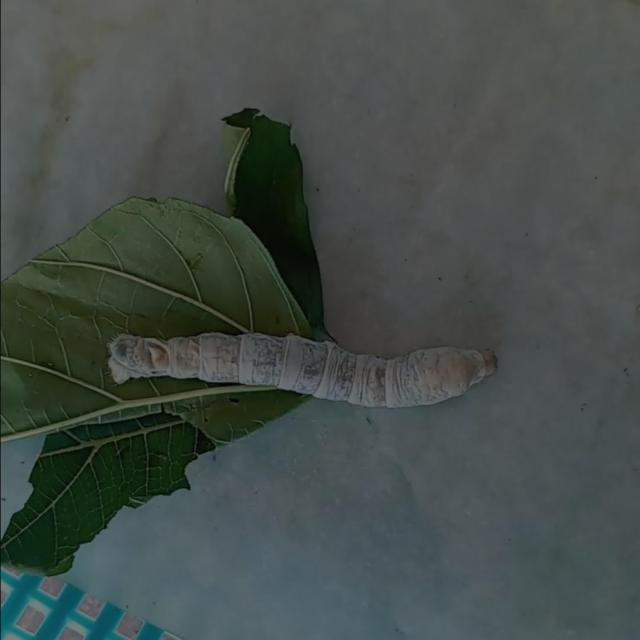Grasserie: (90, 291, 518, 450)
